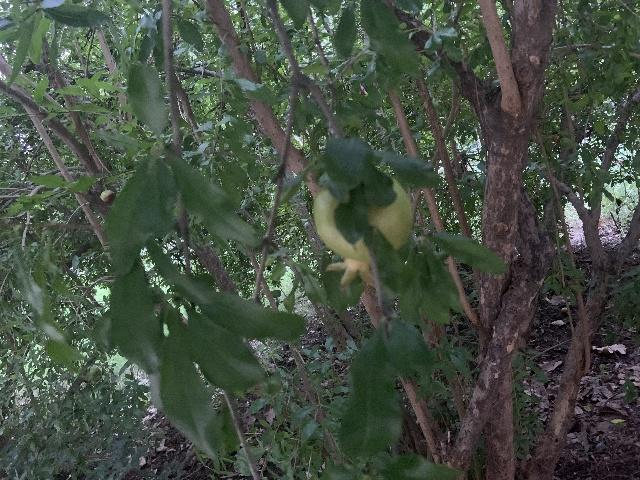mid-growth: (313, 180, 413, 292)
